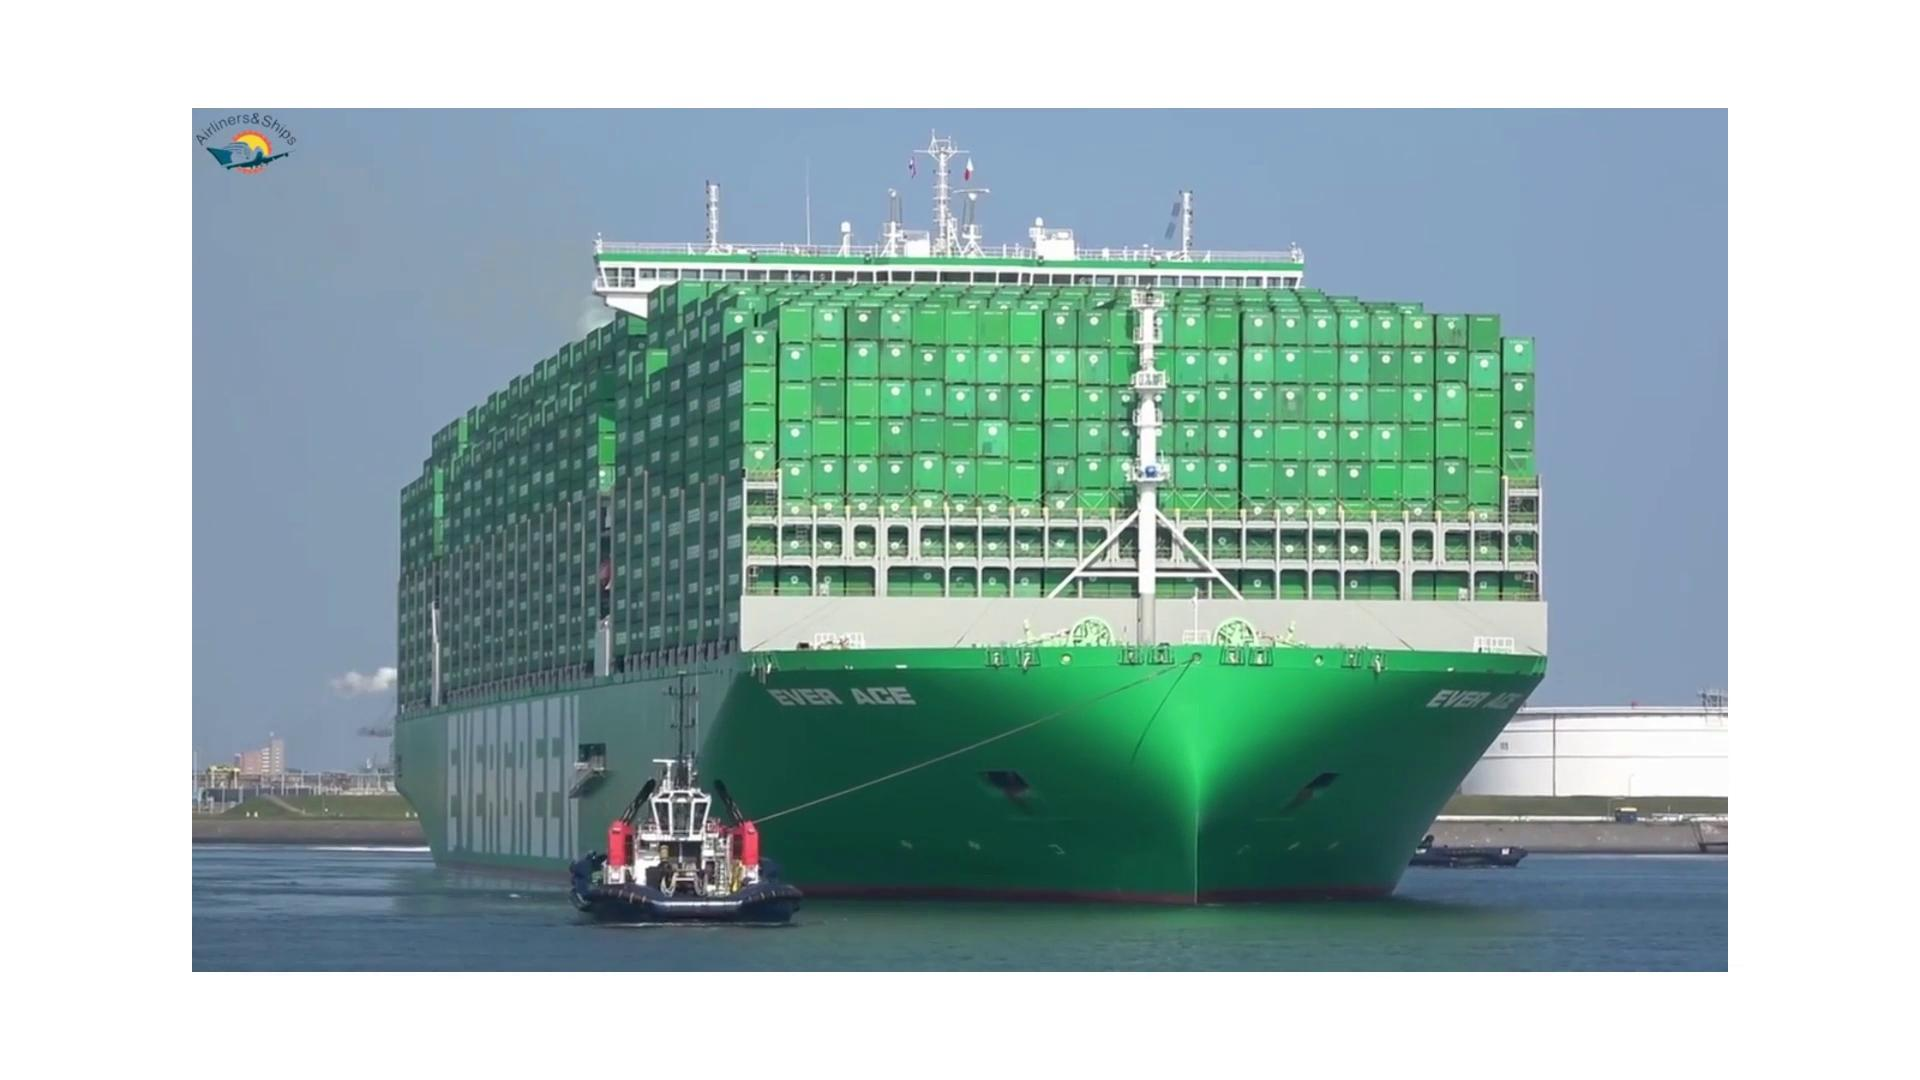OCR: (421, 692, 605, 880), (752, 662, 942, 732), (1382, 662, 1551, 735)
